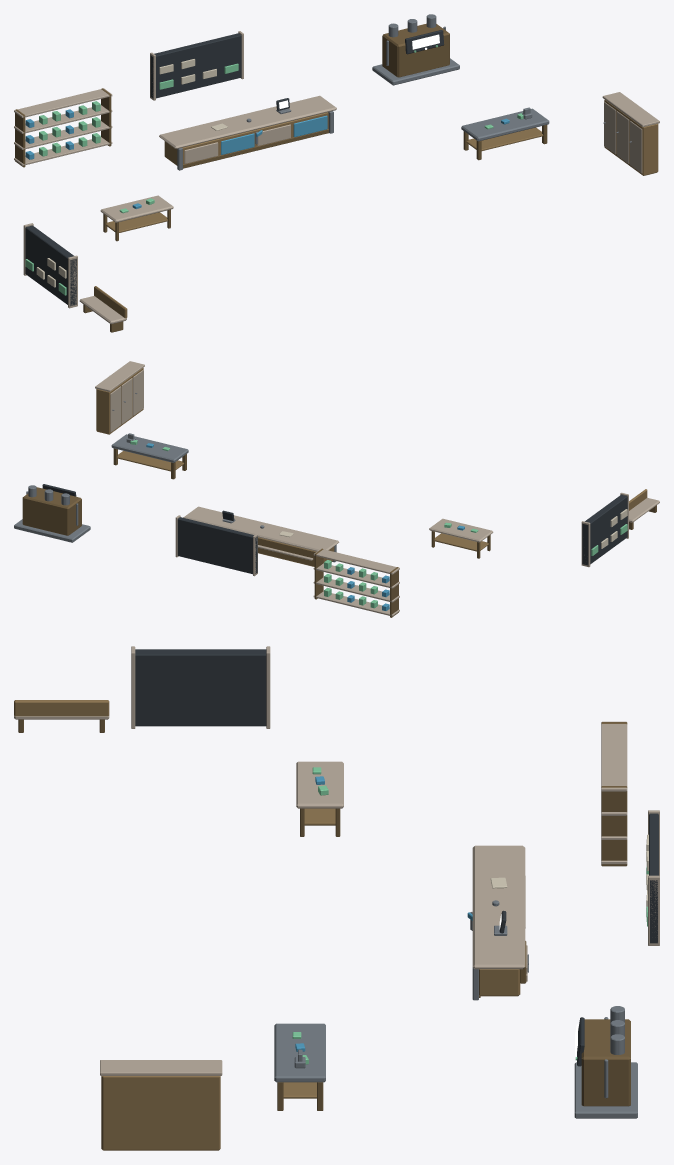
The model's file is north_anchor_repair_shed.glb.
The picture shows the model from 3 angles, top to bottom: view 1: azimuth 30°, elevation 25°; view 2: azimuth 150°, elevation 25°; view 3: azimuth 270°, elevation 25°; orthographic projection. The views are drawn at different scales.
Bounding box in the file's own units: 25.74 × 2.82 × 16.25.
